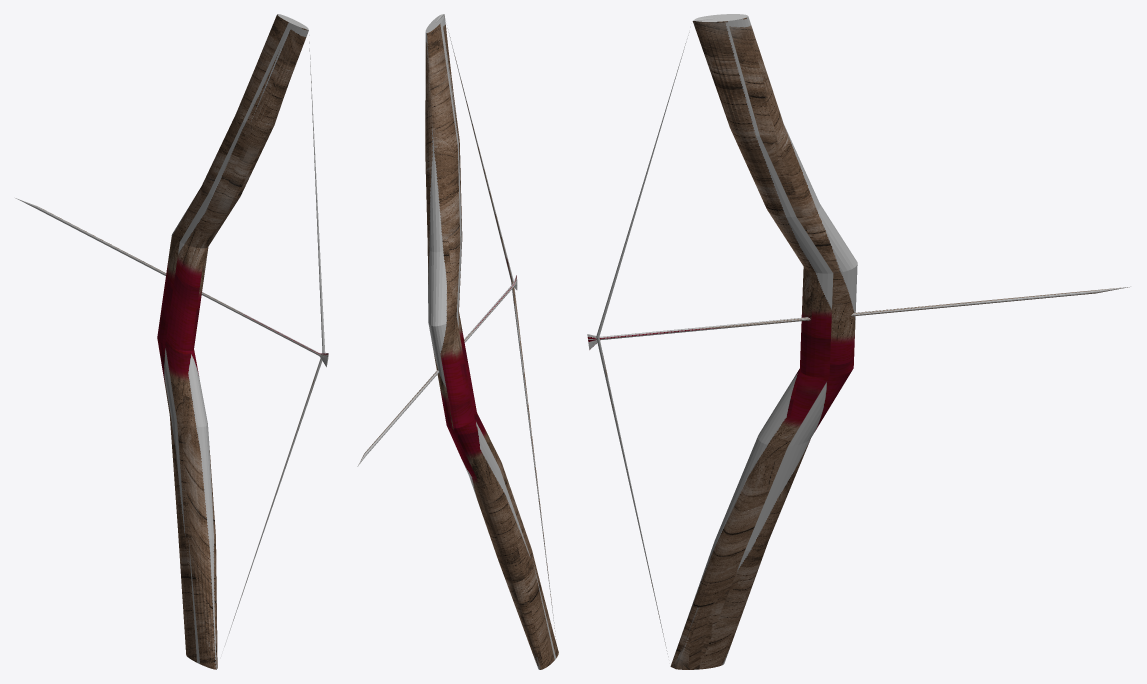
File: Arco15.obj
The picture shows the model from 3 angles, left to right: view 1: azimuth 30°, elevation 25°; view 2: azimuth 150°, elevation 25°; view 3: azimuth 270°, elevation 25°; orthographic projection. The views are drawn at different scales.
Visible parts, largest first — view 1: Cilindro; view 2: Cilindro; view 3: Cilindro.
Boxes of the visible parts, x1,y1,x2,y2 form: Cilindro: [15, 14, 328, 669]; Cilindro: [357, 14, 558, 669]; Cilindro: [587, 14, 1130, 669].
Size of the model in its own units: 0.1886 by 0.9705 by 0.6791.
Materials: 1 (1 with a texture image).
